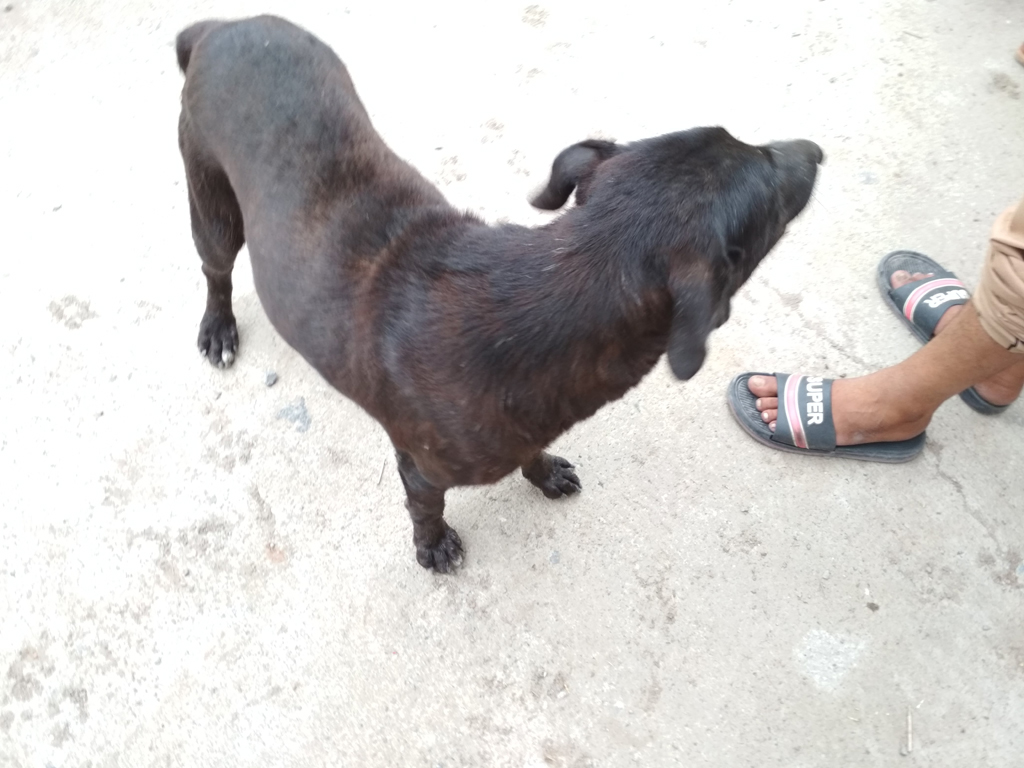dog: (176, 21, 825, 576)
